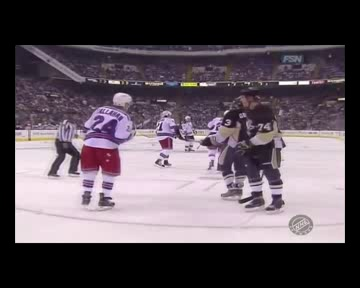normal: (203, 87, 291, 215), (71, 83, 138, 215)
